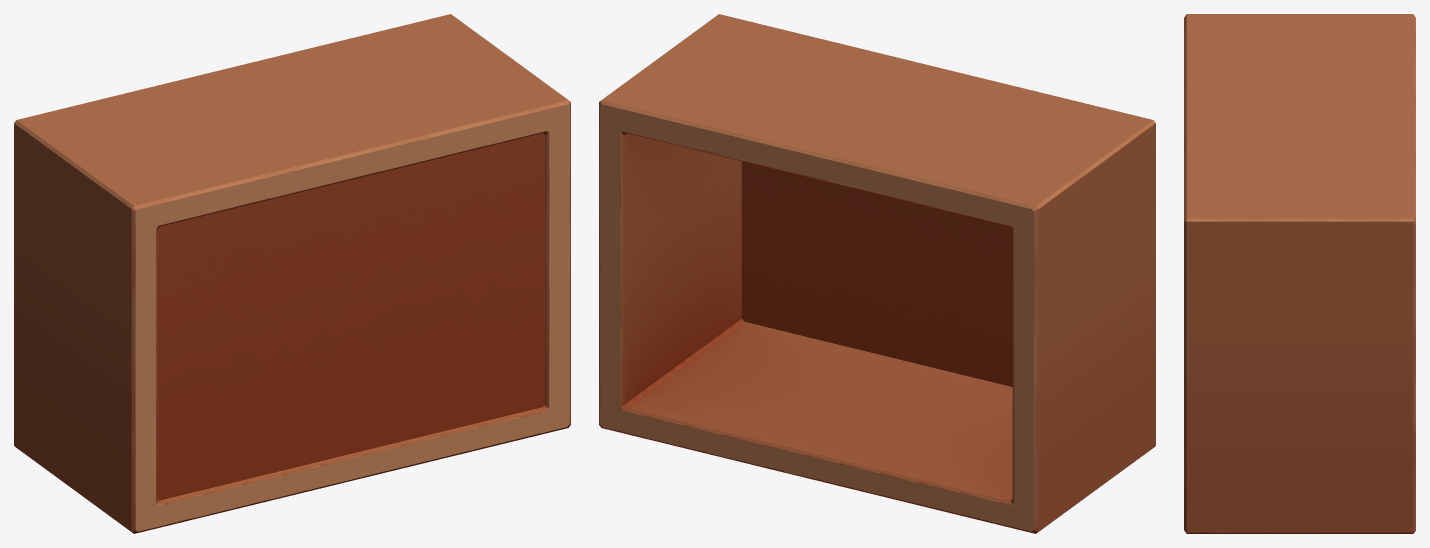
The model's file is shelf scale.fbx.
The picture shows the model from 3 angles, left to right: view 1: azimuth 30°, elevation 25°; view 2: azimuth 150°, elevation 25°; view 3: azimuth 270°, elevation 25°; orthographic projection. The views are drawn at different scales.
Parts seen in each view (by area): view 1: shelf, pPlane1; view 2: shelf, pPlane1; view 3: shelf.
Part boxes in pixels (box(x1,y1,x2,y2)): shelf: box(14, 14, 570, 533); pPlane1: box(157, 133, 544, 500); shelf: box(599, 14, 1155, 533); pPlane1: box(741, 161, 1012, 386); shelf: box(1184, 14, 1415, 533).
Size of the model in its own units: 270 by 192 by 128.
